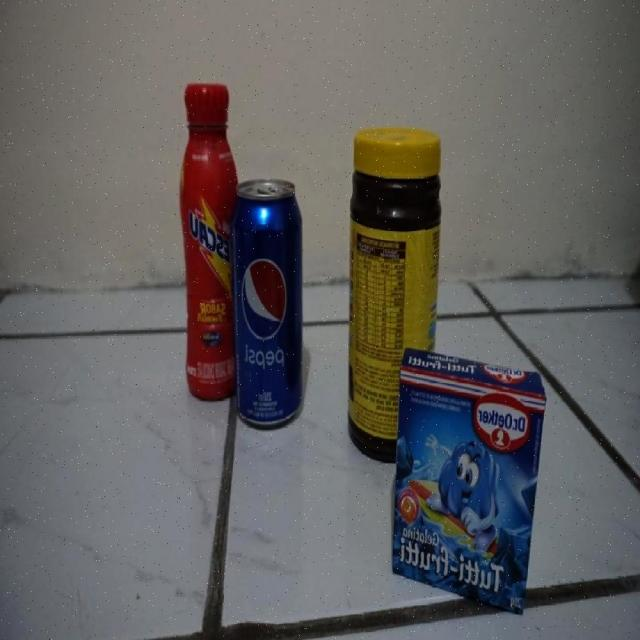ChocolateMilk: (184, 83, 233, 398)
ChocolatePowder: (346, 122, 446, 337)
Gelatine: (389, 346, 546, 606)
SodaCan: (233, 178, 307, 428)
